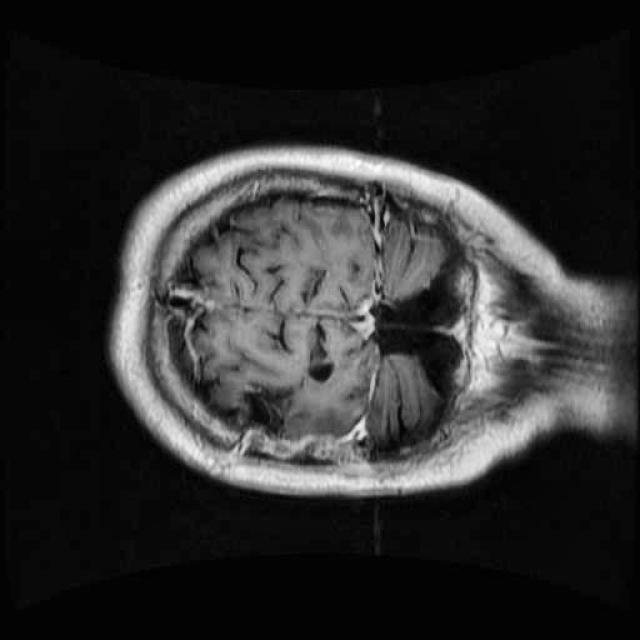Non-Tumor: (203, 366, 331, 460)
